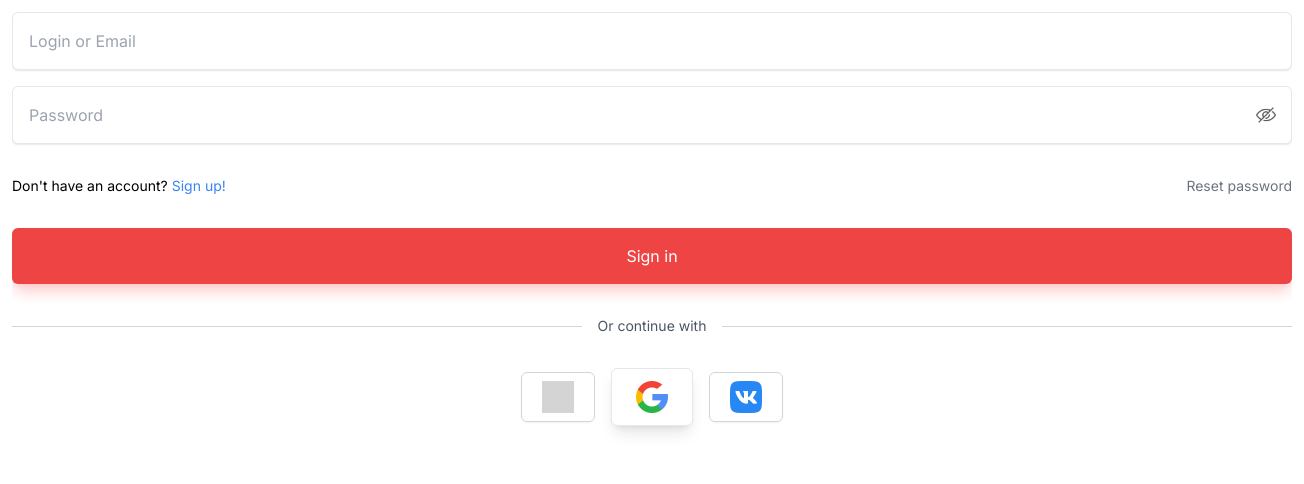
Test: <LoginForm /> › 2. Displays error message for password input when invalid password is entered
The image size is (1304, 484).
Step 1. Type "user@example.com" into the field with test id "LoginForm.LoginOrEmailInput" → (652, 41), box [12,12,1292,70]
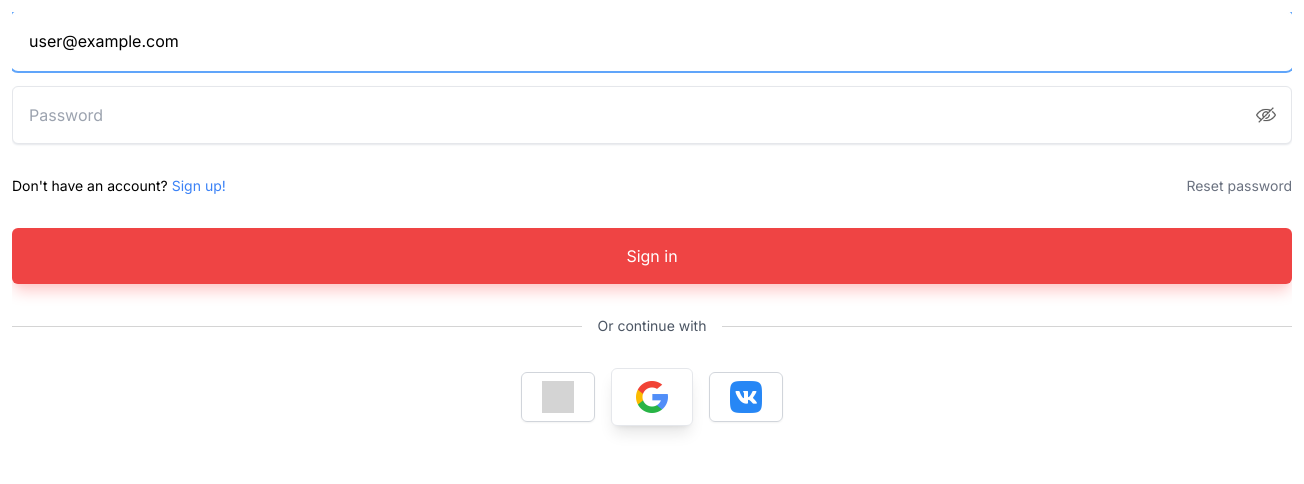
Step 2. Type "short" into the password field with test id "LoginForm.PasswordInput" → (652, 115), box [12,86,1292,144]
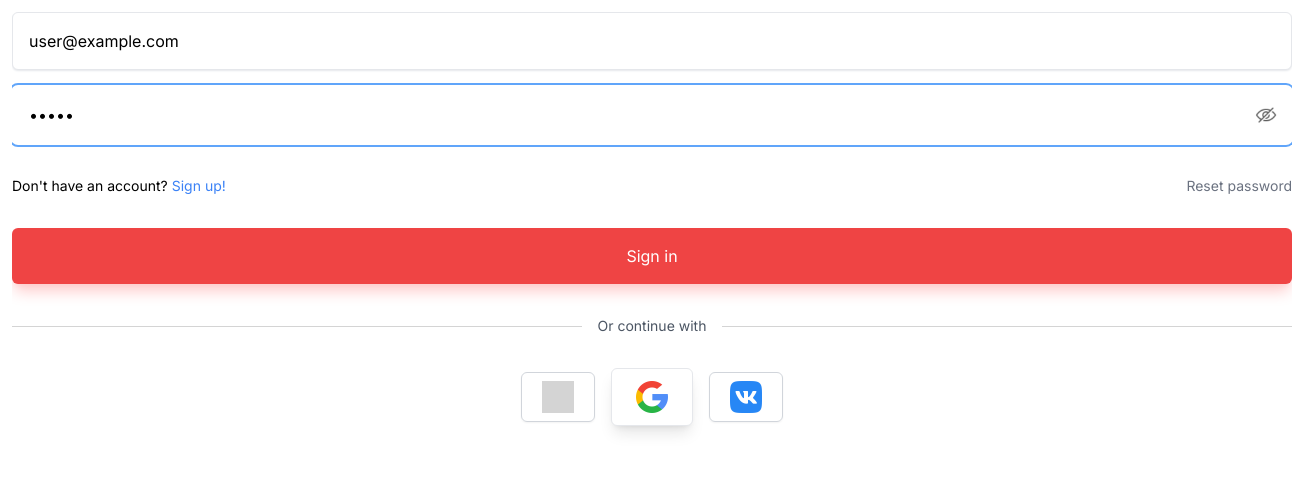
Step 3. Click the button with test id "SubmittingButton" → (652, 256), box [12,228,1292,284]
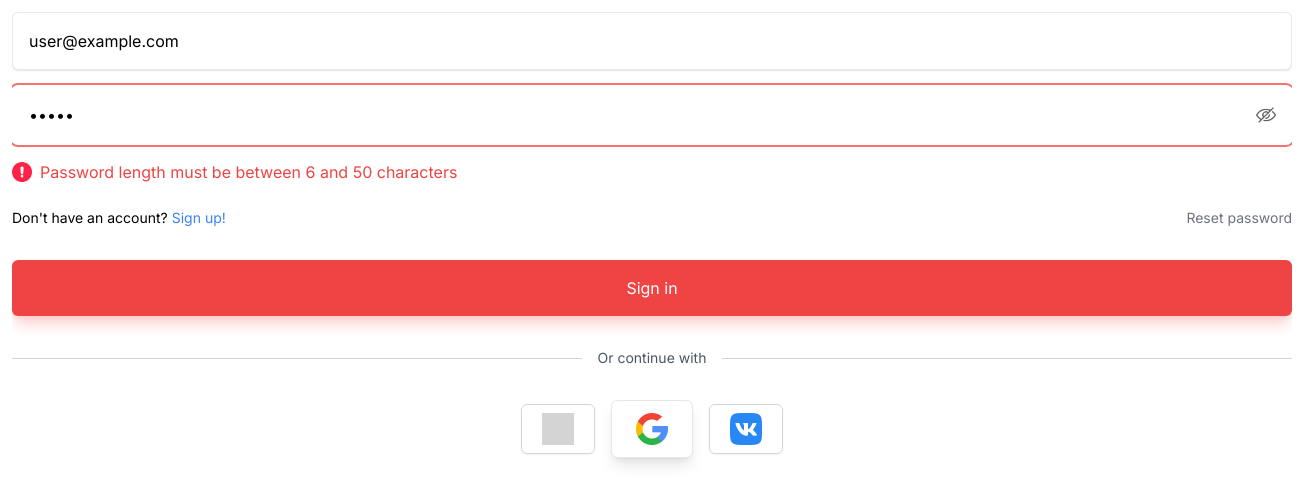
Expected: the text with test id "ErrorMessageComponent.Message" reads "Password length must be between 6 and 50 characters", [40,162,457,182]
